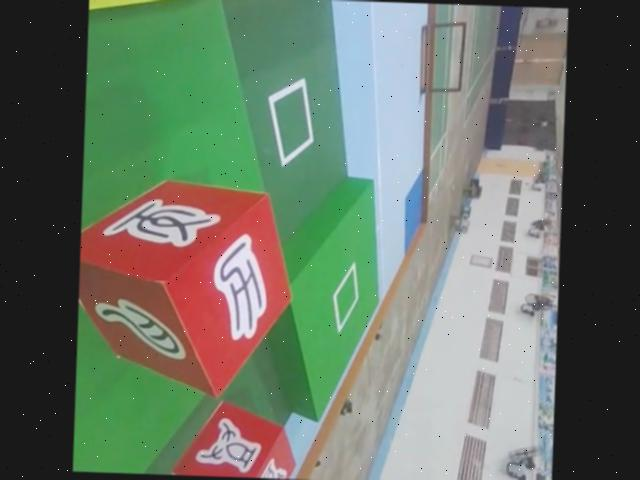R2 Fake: (74, 174, 299, 402)
R2 Real: (166, 395, 302, 480)
